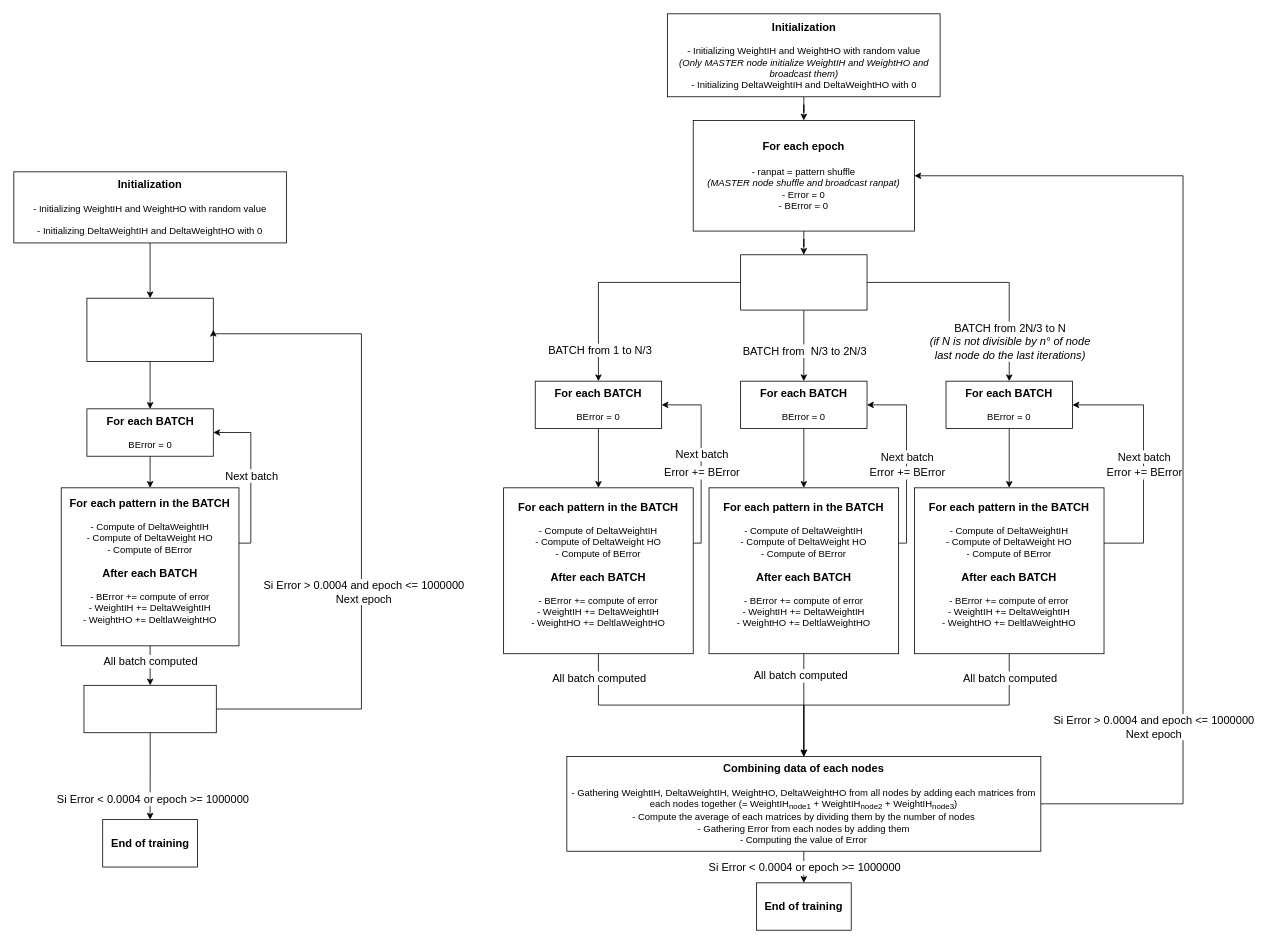
Image size: 1267x944. Some labels were removed from this diagram. Here are the shapes that lost their labels. From the top down, the centre of each, then its label:
At (x=803, y=282): "Distribute N BATCH accross all nodes".
At (x=149, y=329): "For each epoch - ranpat = pattern shuffle - Error = 0 - BError = 0".
At (x=149, y=709): "Computing the value of Error".
